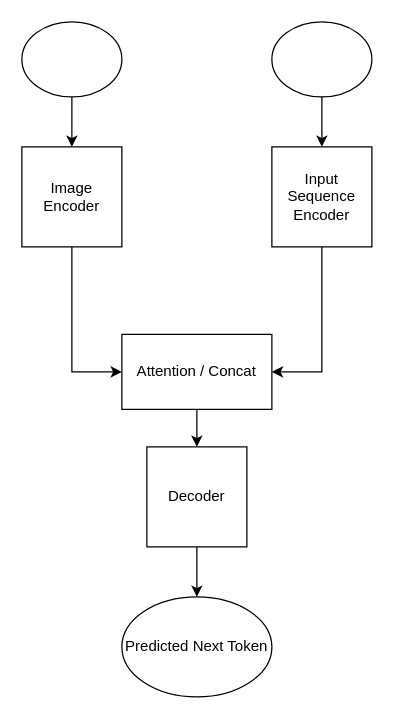
Image size: 394x719. Some labels were removed from this diagram. Each missing label, with the centre of its shape:
"Image" belongs at (x=71, y=59).
"Input Sequence (<start>)" belongs at (x=321, y=59).
